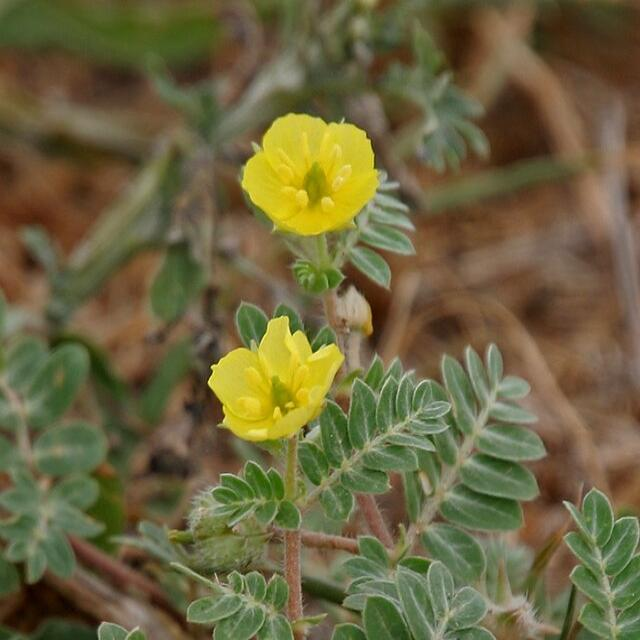Gokharu: (144, 310, 640, 640), (338, 366, 640, 640), (249, 98, 492, 360), (0, 303, 210, 602)
